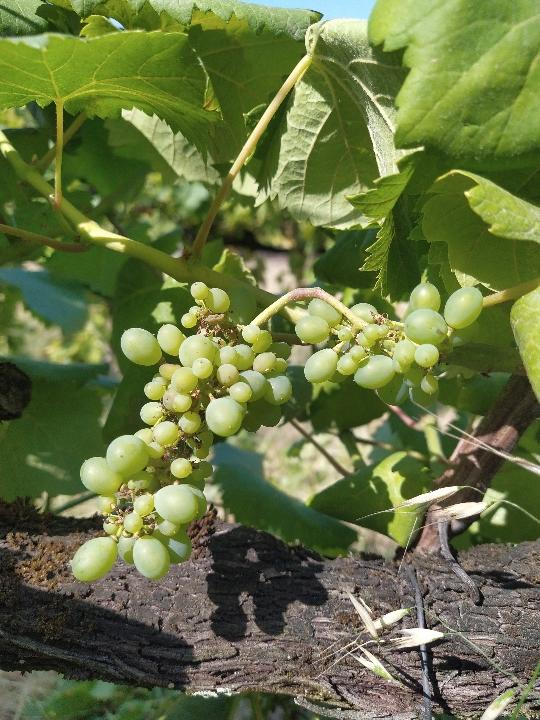grape: (63, 270, 488, 589)
